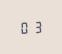three: (31, 19, 42, 33)
zero: (19, 20, 30, 34)
